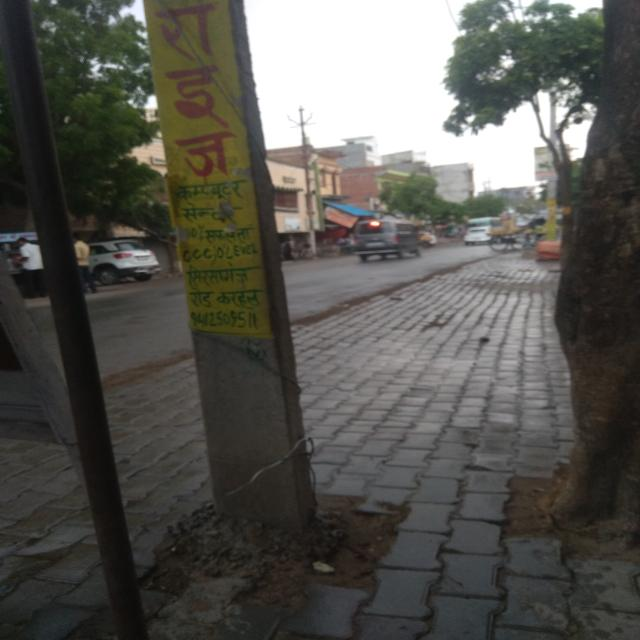Car: (88, 240, 162, 285)
